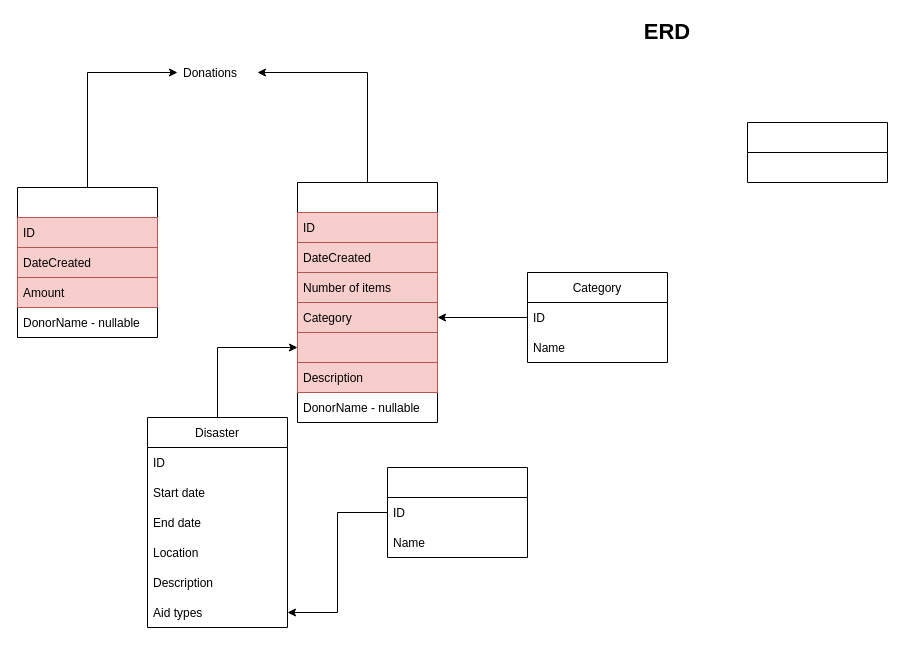
Some shapes in this 905 by 645 pixel diagram are drawn without their labels. The shapes that lost their labels are listed below. From the top down, each one's box as (x1, y1, x2, y2) in pixels, then its label:
(746, 122, 888, 182): EF CORE AUTH
(16, 186, 158, 338): Monetary
(296, 182, 438, 422): Goods
(296, 332, 438, 362): DisasterID
(386, 466, 528, 558): AidType
